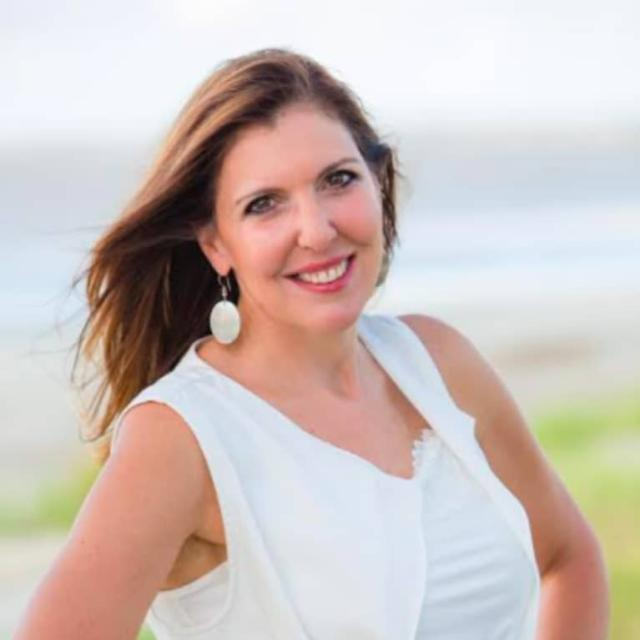human: (1, 49, 615, 640)
